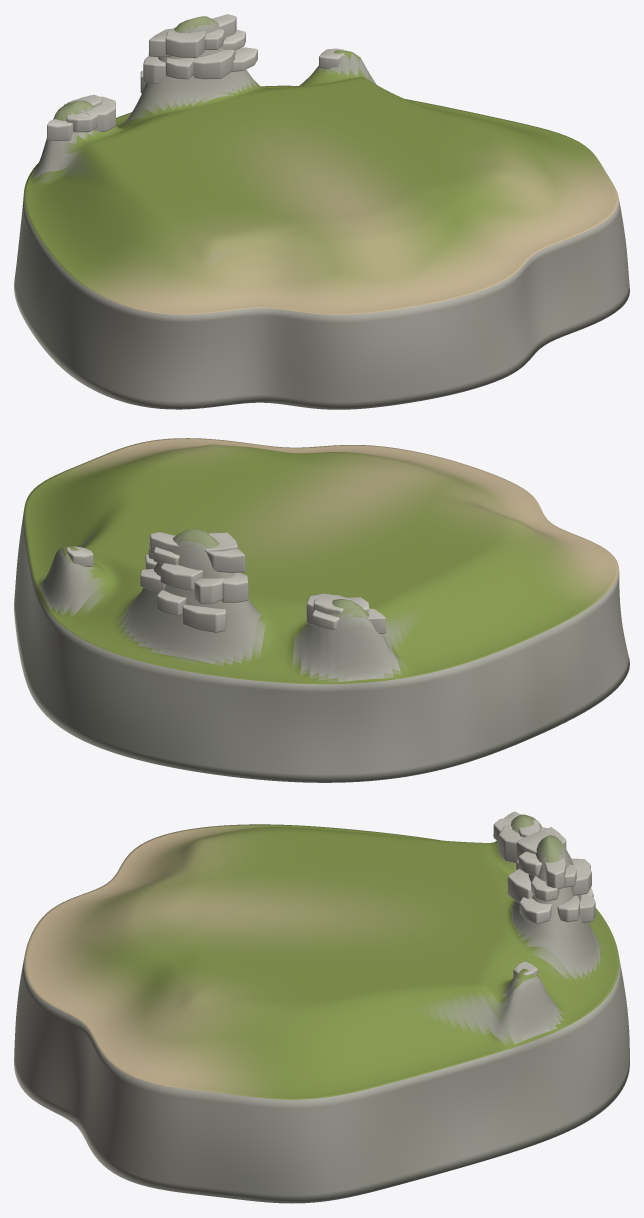
The model's file is projects-island-v1-batched.glb.
The picture shows the model from 3 angles, top to bottom: view 1: azimuth 30°, elevation 25°; view 2: azimuth 150°, elevation 25°; view 3: azimuth 270°, elevation 25°; orthographic projection. The views are drawn at different scales.
Visible parts, largest first — view 1: Batched_1_ProjectsIsland_Soil, Batched_0_ProjectsIsland_Limestone; view 2: Batched_1_ProjectsIsland_Soil, Batched_0_ProjectsIsland_Limestone; view 3: Batched_1_ProjectsIsland_Soil, Batched_0_ProjectsIsland_Limestone.
Part boxes in pixels (bbox=[...]): Batched_1_ProjectsIsland_Soil: bbox=[14, 16, 629, 409]; Batched_0_ProjectsIsland_Limestone: bbox=[47, 14, 344, 141]; Batched_1_ProjectsIsland_Soil: bbox=[14, 438, 629, 782]; Batched_0_ProjectsIsland_Limestone: bbox=[66, 531, 385, 633]; Batched_1_ProjectsIsland_Soil: bbox=[14, 814, 629, 1203]; Batched_0_ProjectsIsland_Limestone: bbox=[493, 811, 595, 977].
Size of the model in its own units: 64.67 by 22.86 by 59.09.
